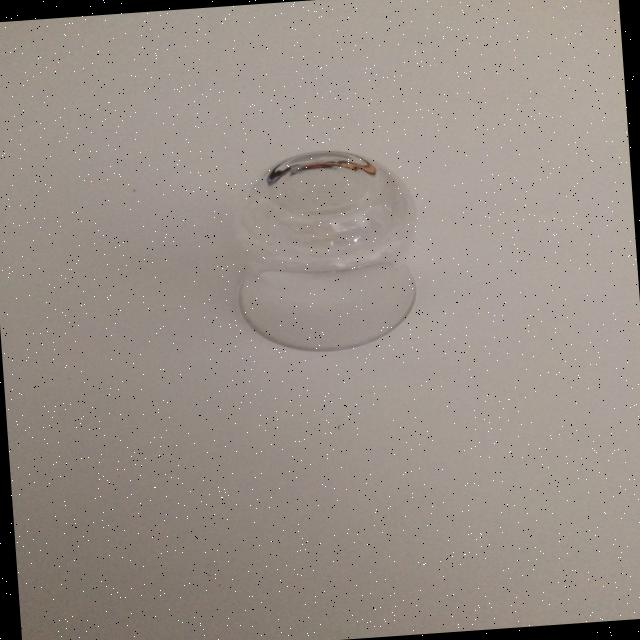glass: (178, 138, 446, 390)
